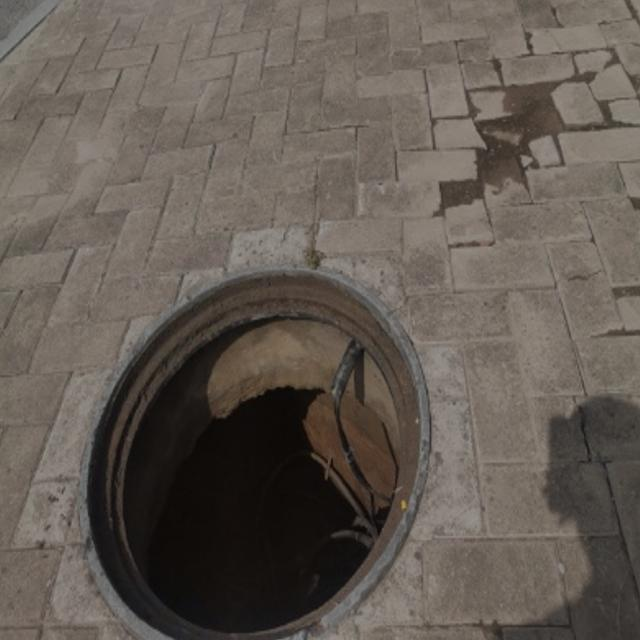lose: (66, 276, 462, 640)
